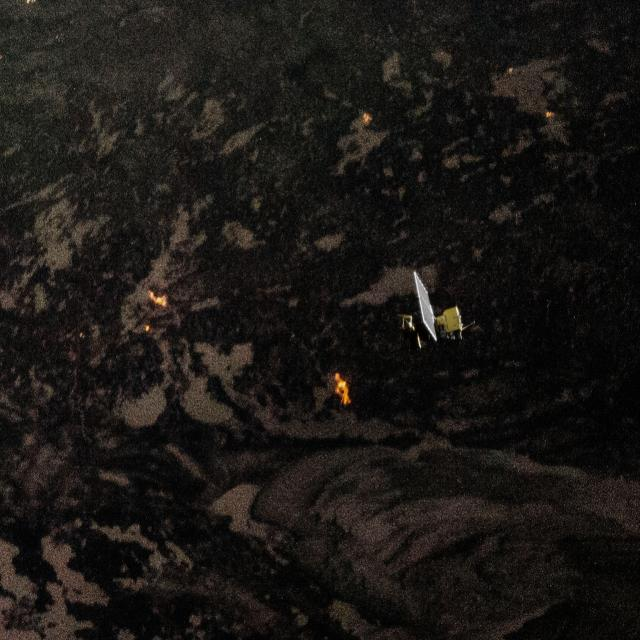satellite: (385, 262, 490, 360)
